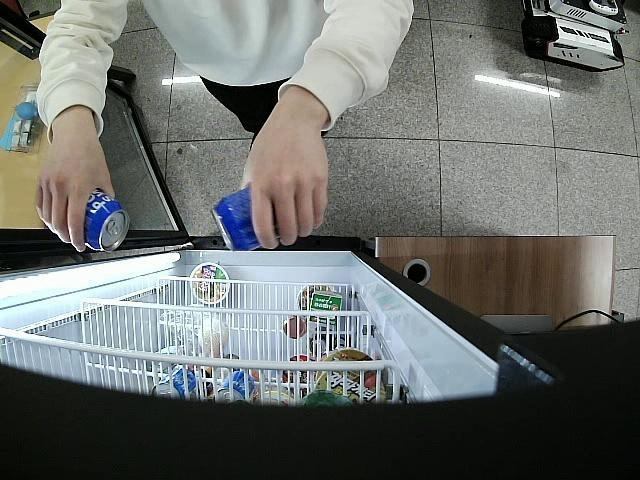13_pocariSweat: (212, 184, 282, 252), (82, 188, 130, 252)
